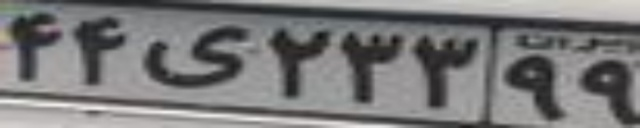2: (266, 28, 327, 99)
3: (408, 35, 473, 109), (339, 33, 397, 104)
4: (8, 11, 63, 83), (70, 17, 126, 85)
9: (500, 52, 559, 119), (577, 60, 635, 122)
ye: (138, 25, 254, 88)
